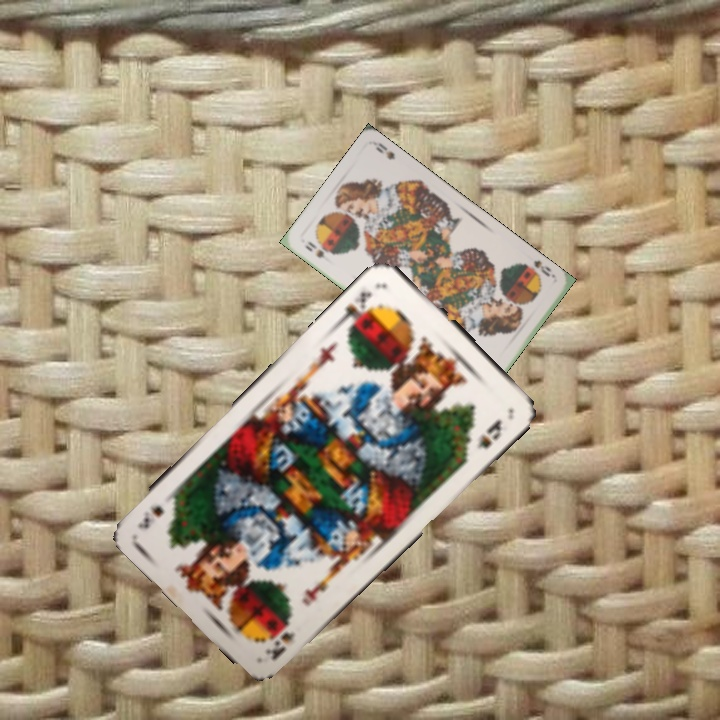SK: (335, 287, 375, 332), (261, 619, 298, 664)
SO: (518, 256, 558, 282), (301, 237, 328, 260)
